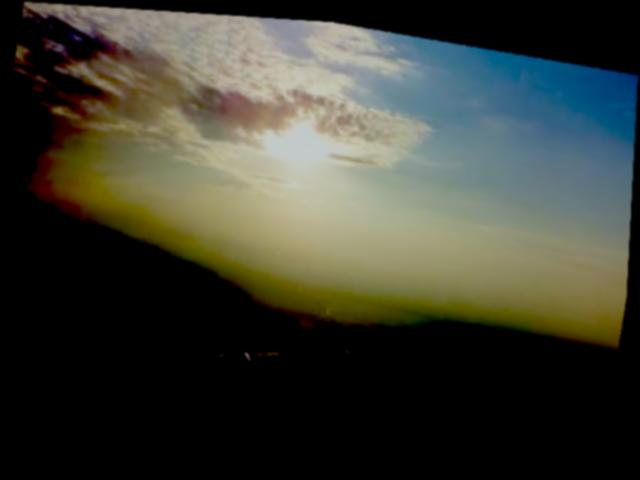uav: (209, 324, 289, 375)
